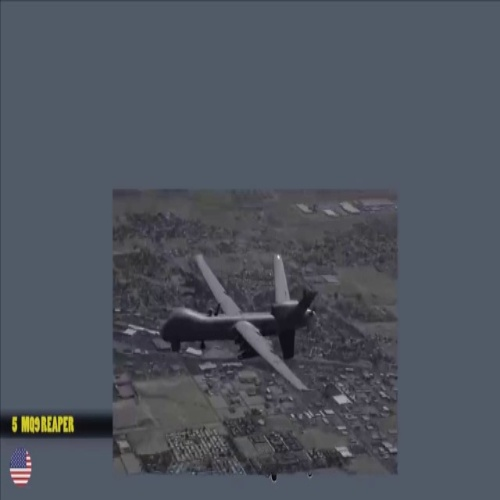uav917: (153, 246, 319, 394)
